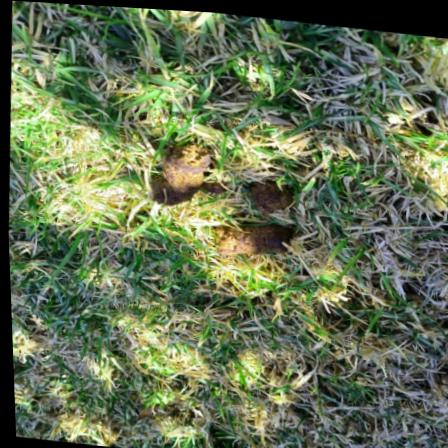dog-poop: (144, 132, 219, 205), (210, 217, 285, 264), (238, 178, 295, 211)
